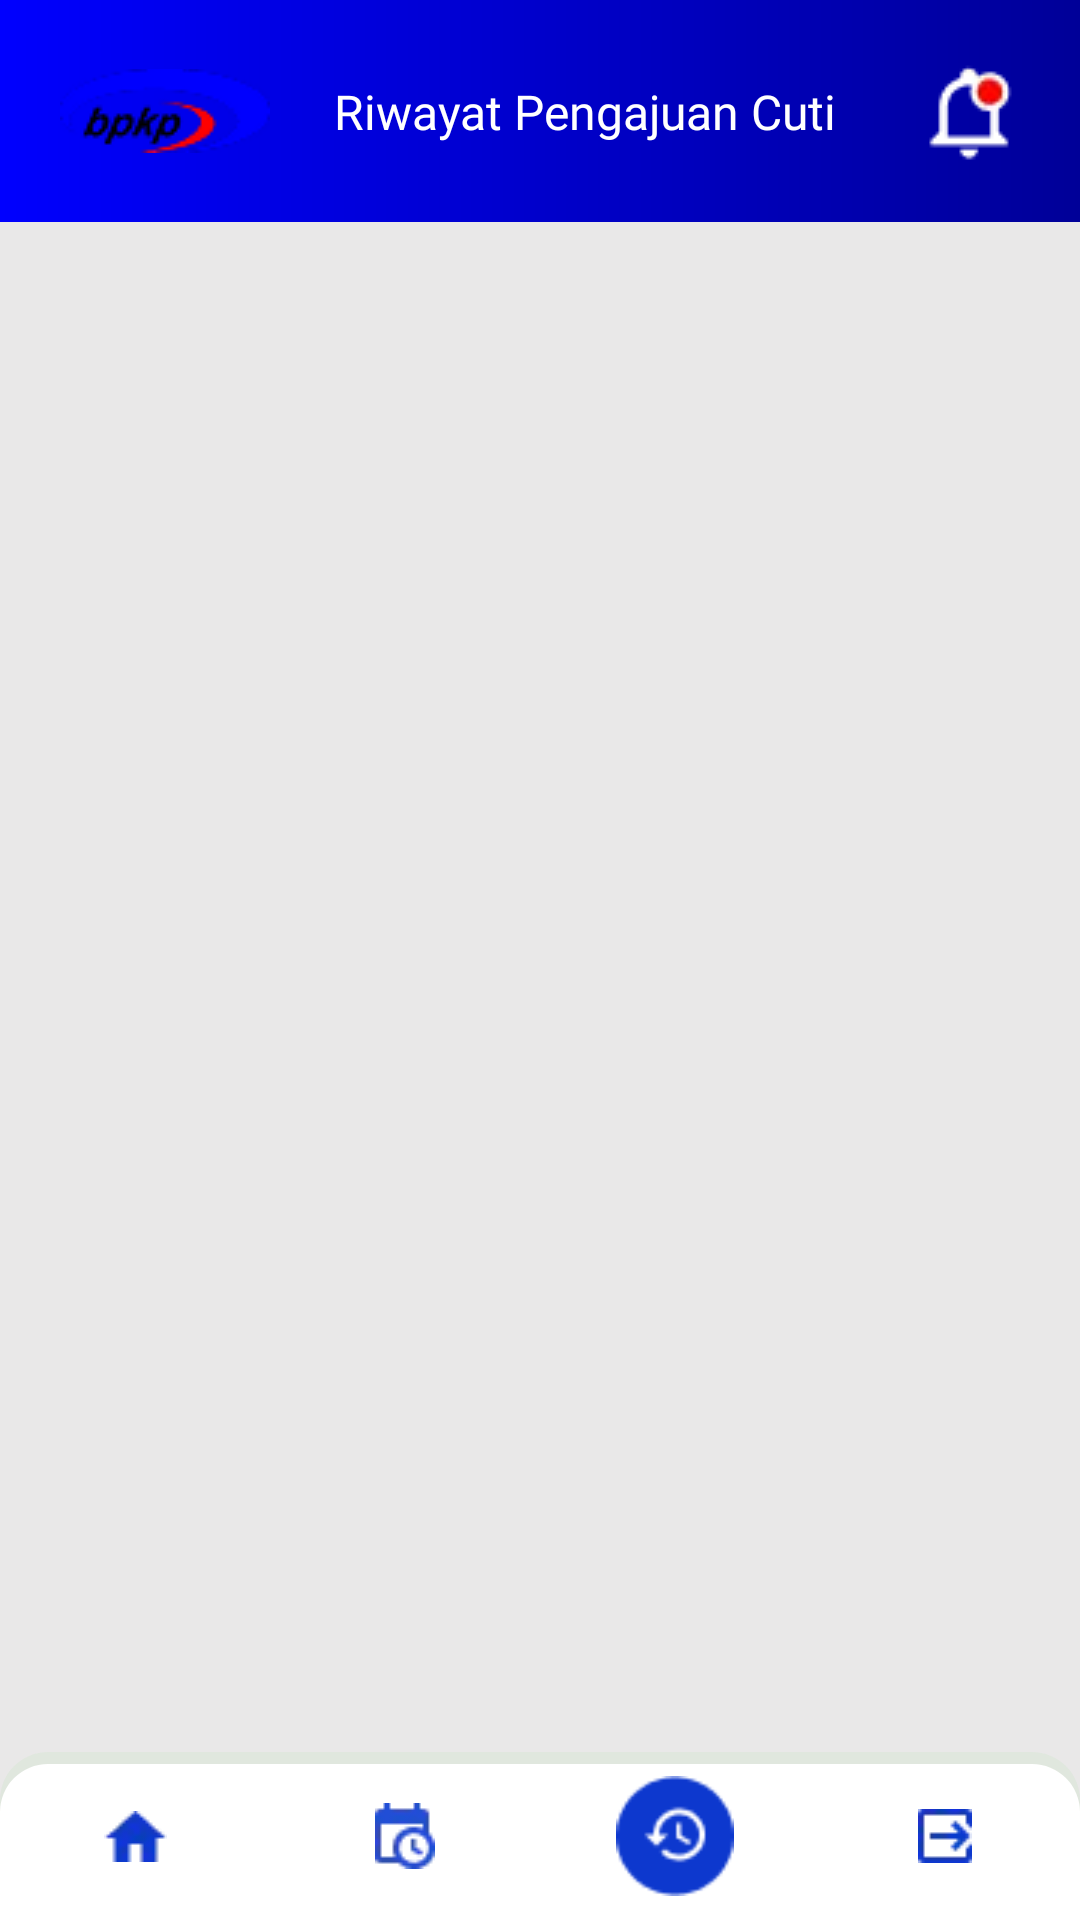

Locate icon controls on the screen. Image size 1080w x 1920h, boxes as [x1, y1, x2, y2].
bell: [929, 67, 1011, 160]
form cuti: [375, 1803, 435, 1869]
history: [616, 1776, 734, 1896]
